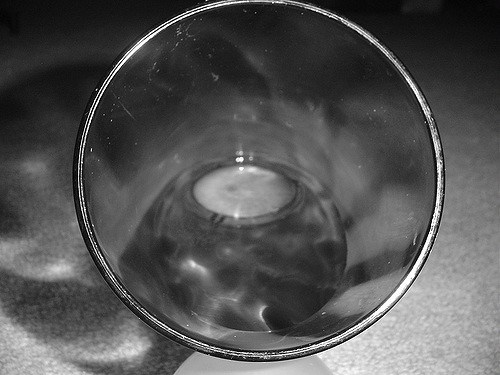glass of water: (106, 16, 422, 352)
